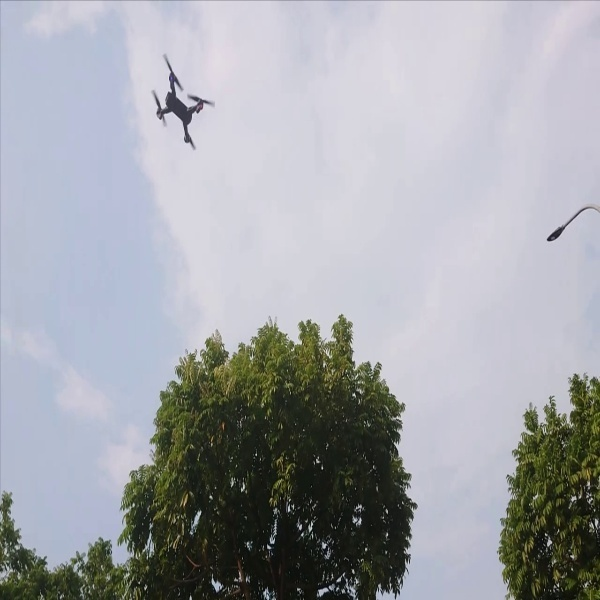drone: (147, 51, 214, 157)
